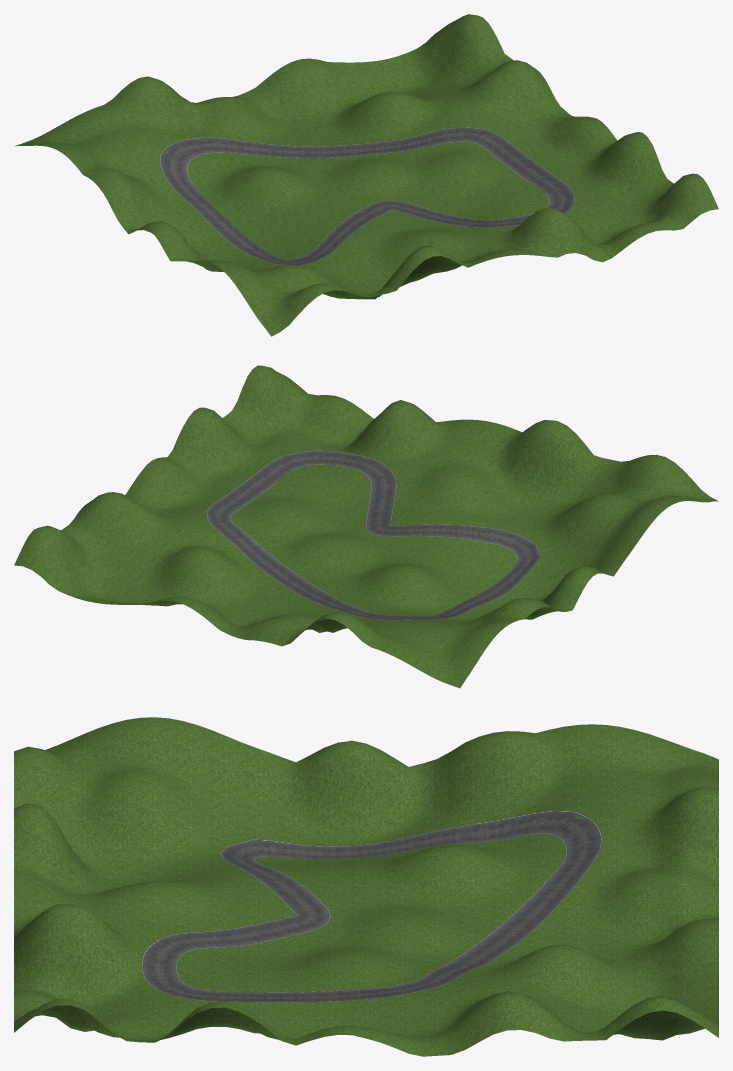
Rendered from Terrain.FBX.
3 renders of one model, top to bottom at view 1: azimuth 30°, elevation 25°; view 2: azimuth 150°, elevation 25°; view 3: azimuth 270°, elevation 25°, orthographic. The views are drawn at different scales.
Visible parts, largest first — view 1: Terrain; view 2: Terrain; view 3: Terrain.
Part boxes in pixels (box(x1,y1,x2,y2)): Terrain: box(15, 14, 718, 336); Terrain: box(14, 365, 718, 688); Terrain: box(14, 717, 718, 1056).
Size of the model in its own units: 30680 by 4833 by 30428.
Materials: 2 (2 with a texture image).
